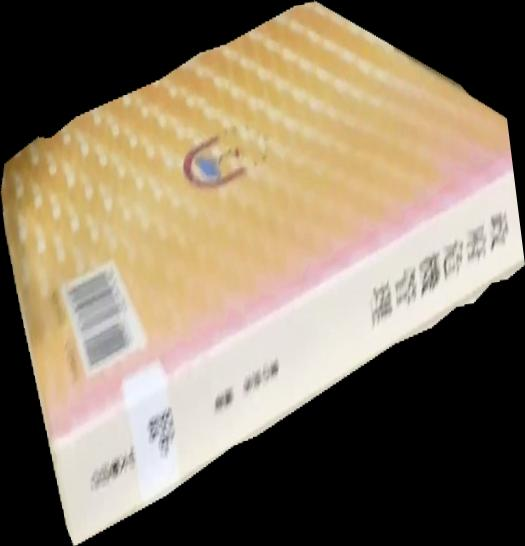flat: (1, 1, 525, 546)
